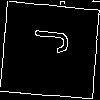J: (25, 25, 69, 55)
